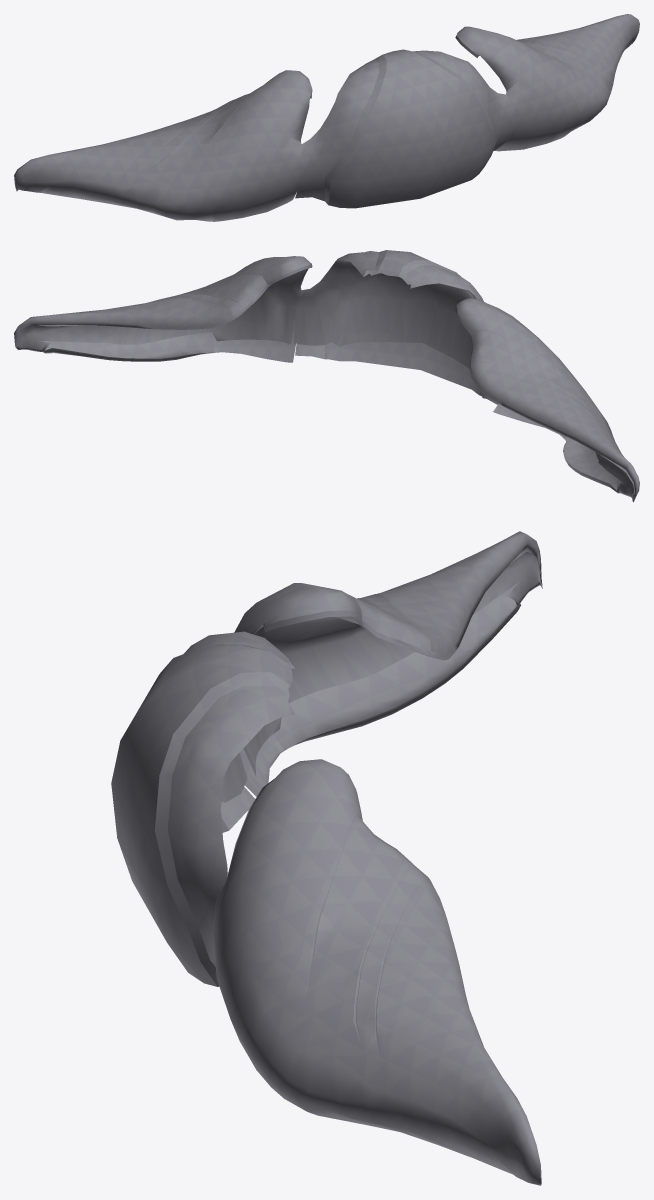
The model's file is pref_sm_beach_bk_winter_pointmol_topbuild02_lv1.fbx.
3 views of the same model, one above another, from view 1: azimuth 30°, elevation 25°; view 2: azimuth 150°, elevation 25°; view 3: azimuth 270°, elevation 25° (orthographic). The views are drawn at different scales.
Visible parts, largest first — view 1: sm_beach_bk_winter_pointmol_topbuild02c_lv1, sm_beach_bk_winter_pointmol_topbuild02a_lv1, sm_beach_bk_winter_pointmol_topbuild02b_lv1; view 2: sm_beach_bk_winter_pointmol_topbuild02c_lv1, sm_beach_bk_winter_pointmol_topbuild02b_lv1, sm_beach_bk_winter_pointmol_topbuild02a_lv1; view 3: sm_beach_bk_winter_pointmol_topbuild02b_lv1, sm_beach_bk_winter_pointmol_topbuild02c_lv1, sm_beach_bk_winter_pointmol_topbuild02a_lv1.
Part boxes in pixels (x1,y1,x2,y2): sm_beach_bk_winter_pointmol_topbuild02c_lv1: [295, 49, 515, 208]; sm_beach_bk_winter_pointmol_topbuild02a_lv1: [14, 70, 312, 221]; sm_beach_bk_winter_pointmol_topbuild02b_lv1: [455, 14, 639, 151]; sm_beach_bk_winter_pointmol_topbuild02c_lv1: [293, 250, 498, 404]; sm_beach_bk_winter_pointmol_topbuild02b_lv1: [14, 256, 312, 362]; sm_beach_bk_winter_pointmol_topbuild02a_lv1: [455, 298, 639, 502]; sm_beach_bk_winter_pointmol_topbuild02b_lv1: [213, 759, 541, 1185]; sm_beach_bk_winter_pointmol_topbuild02c_lv1: [111, 631, 295, 986]; sm_beach_bk_winter_pointmol_topbuild02a_lv1: [234, 531, 542, 796].
Size of the model in its own units: 157 by 31.67 by 46.99.
